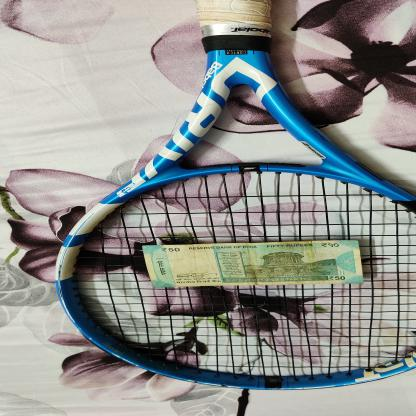New50Back: (139, 238, 371, 288)
